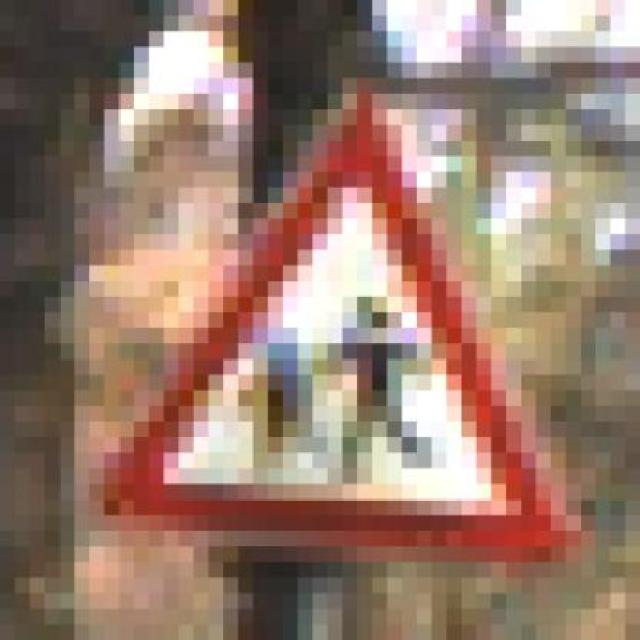Beware of children: (89, 62, 580, 593)
